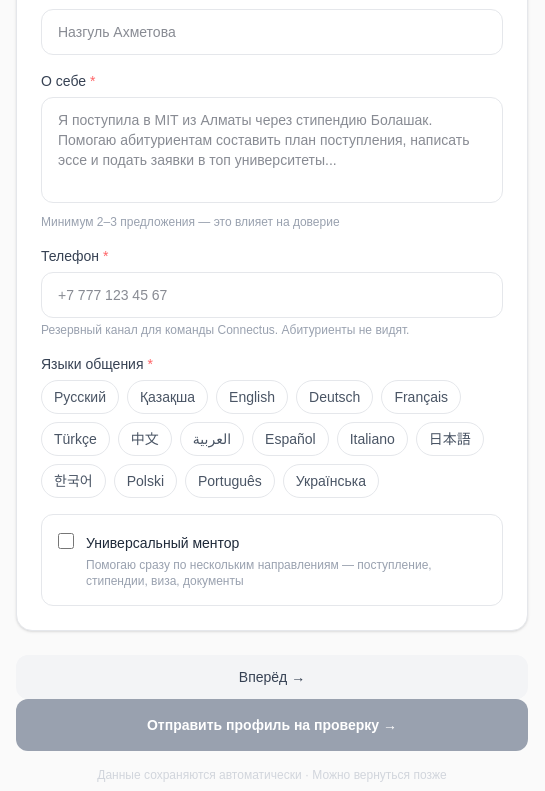
Test: MentorOnboarding › shows a save error when toggling a language chip fails
The width and height of the screenshot is (545, 791).
(page scrolled)
What coordinates should you click on to do the following:
click the button "English"
I would click on:
 (252, 397)
Its box is [216,380,288,414].
(page scrolled)
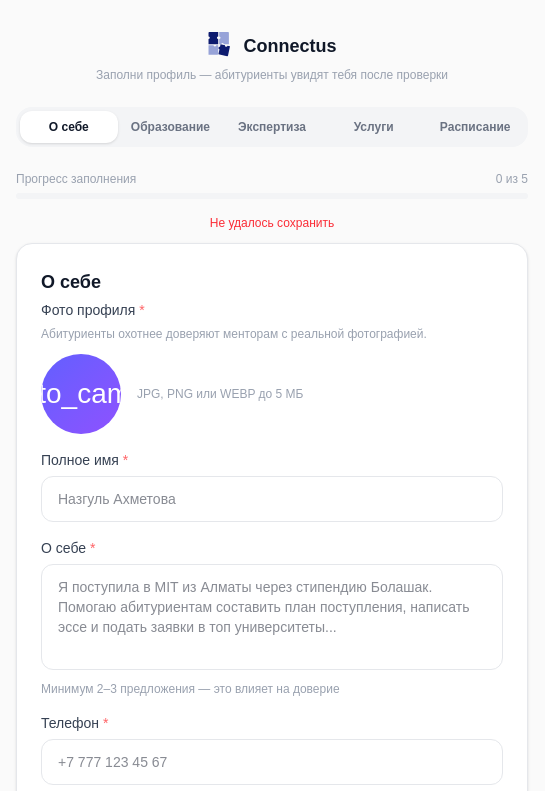
Now the text "Не удалось сохранить" is shown, box [210,216,334,230]
